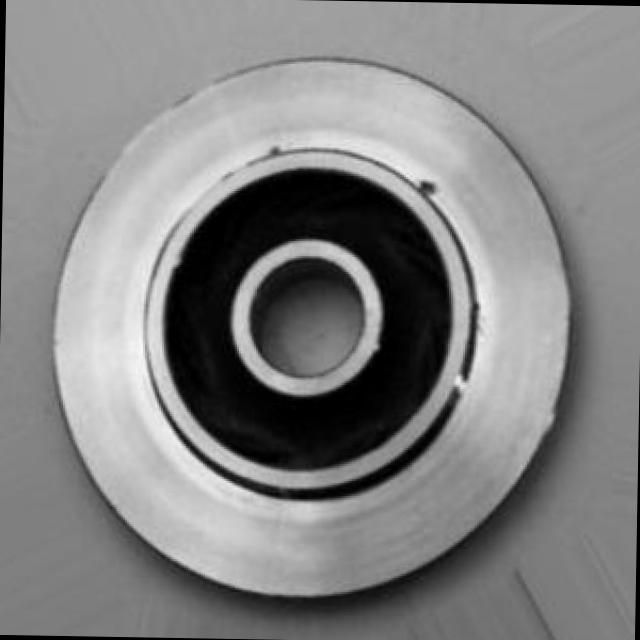Defect: (412, 176, 446, 198)
